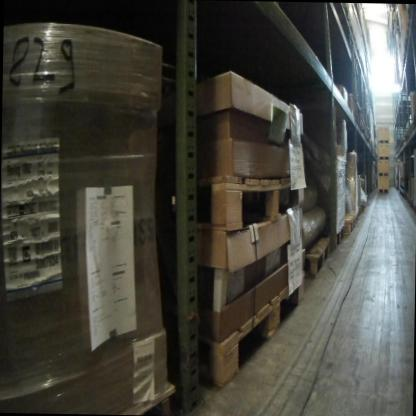pallet: (193, 265, 309, 397), (178, 171, 302, 236), (120, 381, 179, 415), (295, 233, 330, 290), (345, 15, 357, 46), (351, 35, 363, 65), (331, 223, 345, 247), (342, 210, 355, 234), (398, 52, 413, 69), (355, 203, 364, 231), (350, 209, 360, 227), (406, 5, 416, 23), (405, 21, 416, 36), (399, 130, 410, 144), (405, 36, 413, 53), (407, 122, 413, 138), (358, 119, 365, 132), (412, 113, 416, 129)
